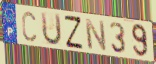3: (109, 22, 127, 55)
9: (131, 23, 149, 59)
C: (21, 10, 38, 43)
N: (83, 17, 108, 53)
U: (40, 11, 63, 48)
Z: (63, 15, 85, 50)
